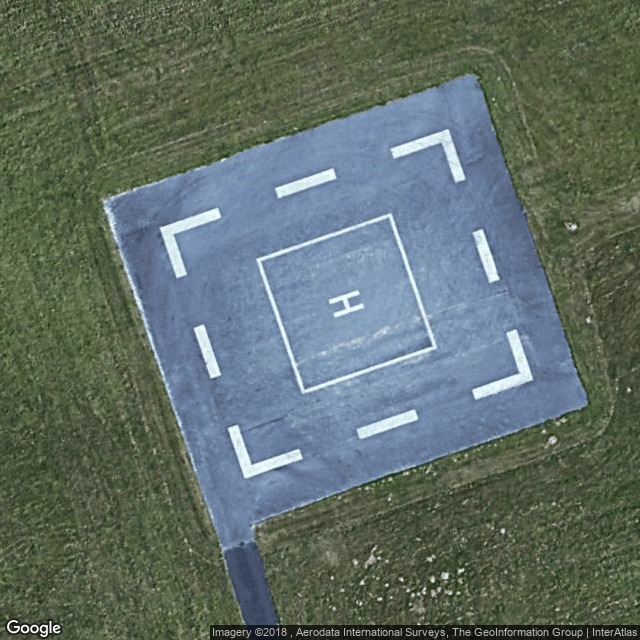heliport: (320, 283, 372, 323)
